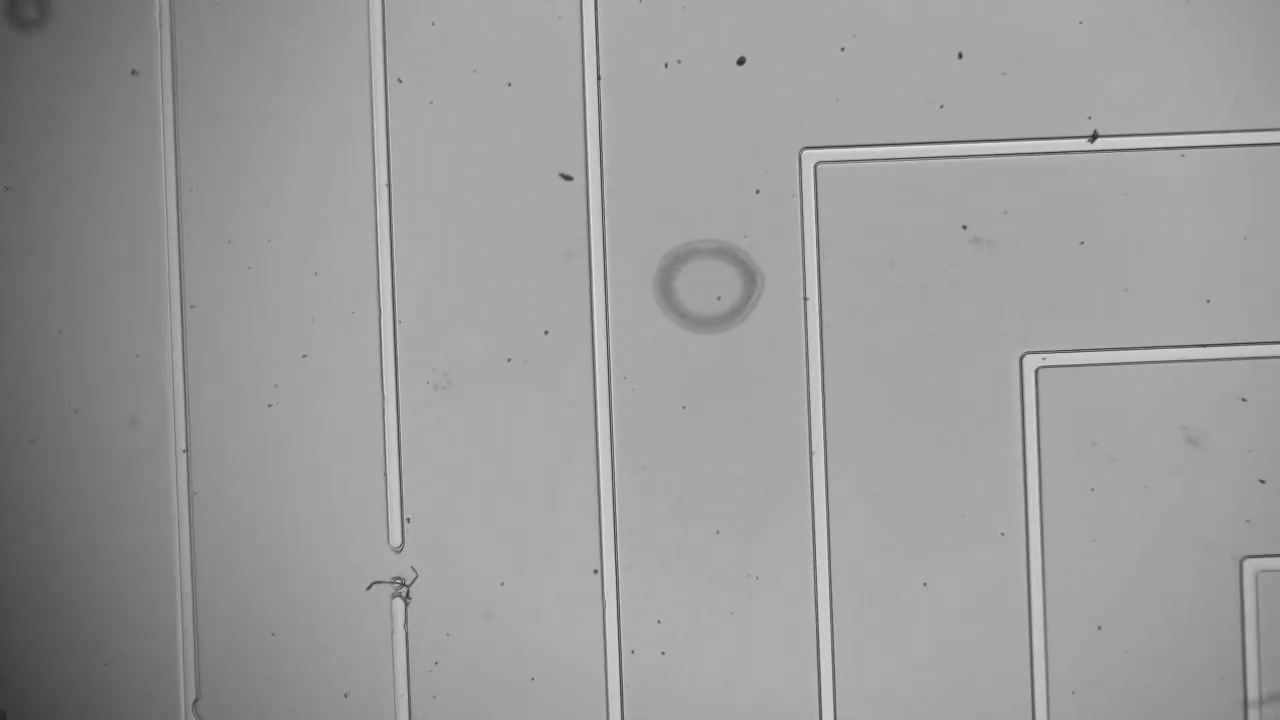edge_bite: (172, 691, 209, 718)
open: (377, 528, 415, 618)
stains_enbedded: (1079, 125, 1108, 160)
